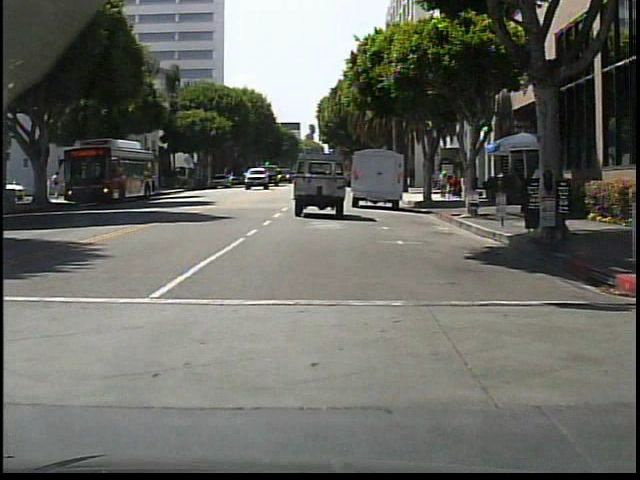person: (51, 171, 63, 199), (438, 170, 449, 200), (429, 167, 438, 201)
